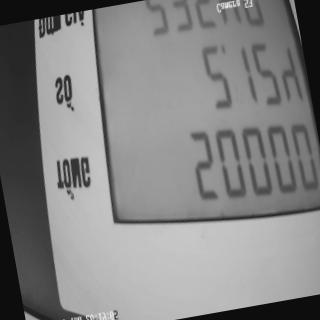screen: (70, 0, 320, 260)
